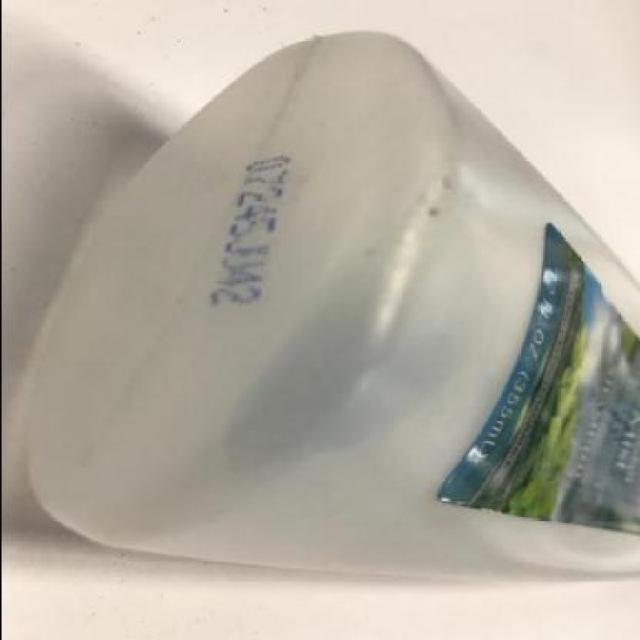PLASTIC: (31, 29, 638, 583)
